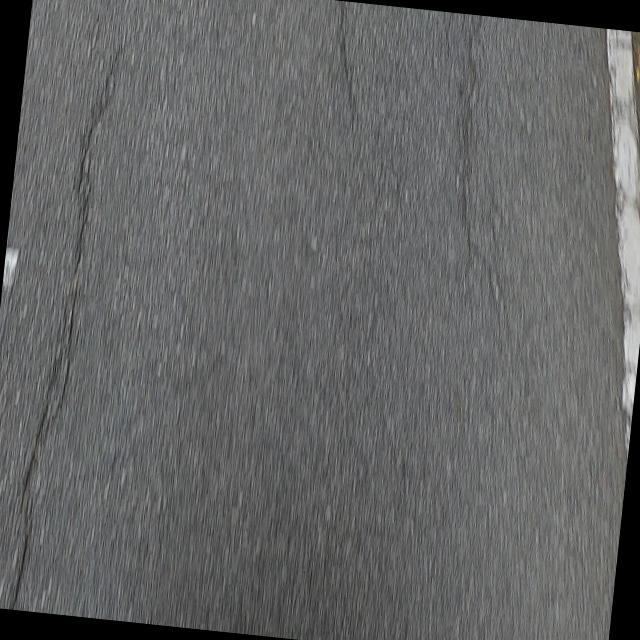Retak-Memanjang: (8, 48, 122, 610), (336, 1, 362, 117)
